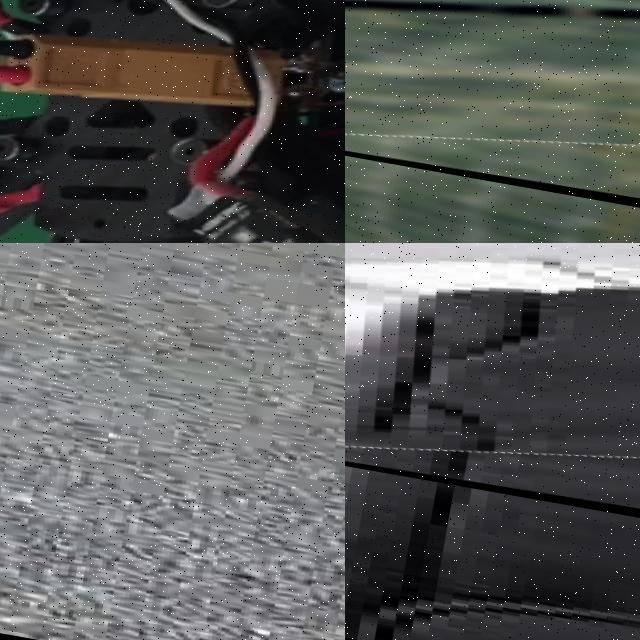drone: (0, 0, 345, 243), (345, 243, 640, 524), (345, 0, 640, 212)
